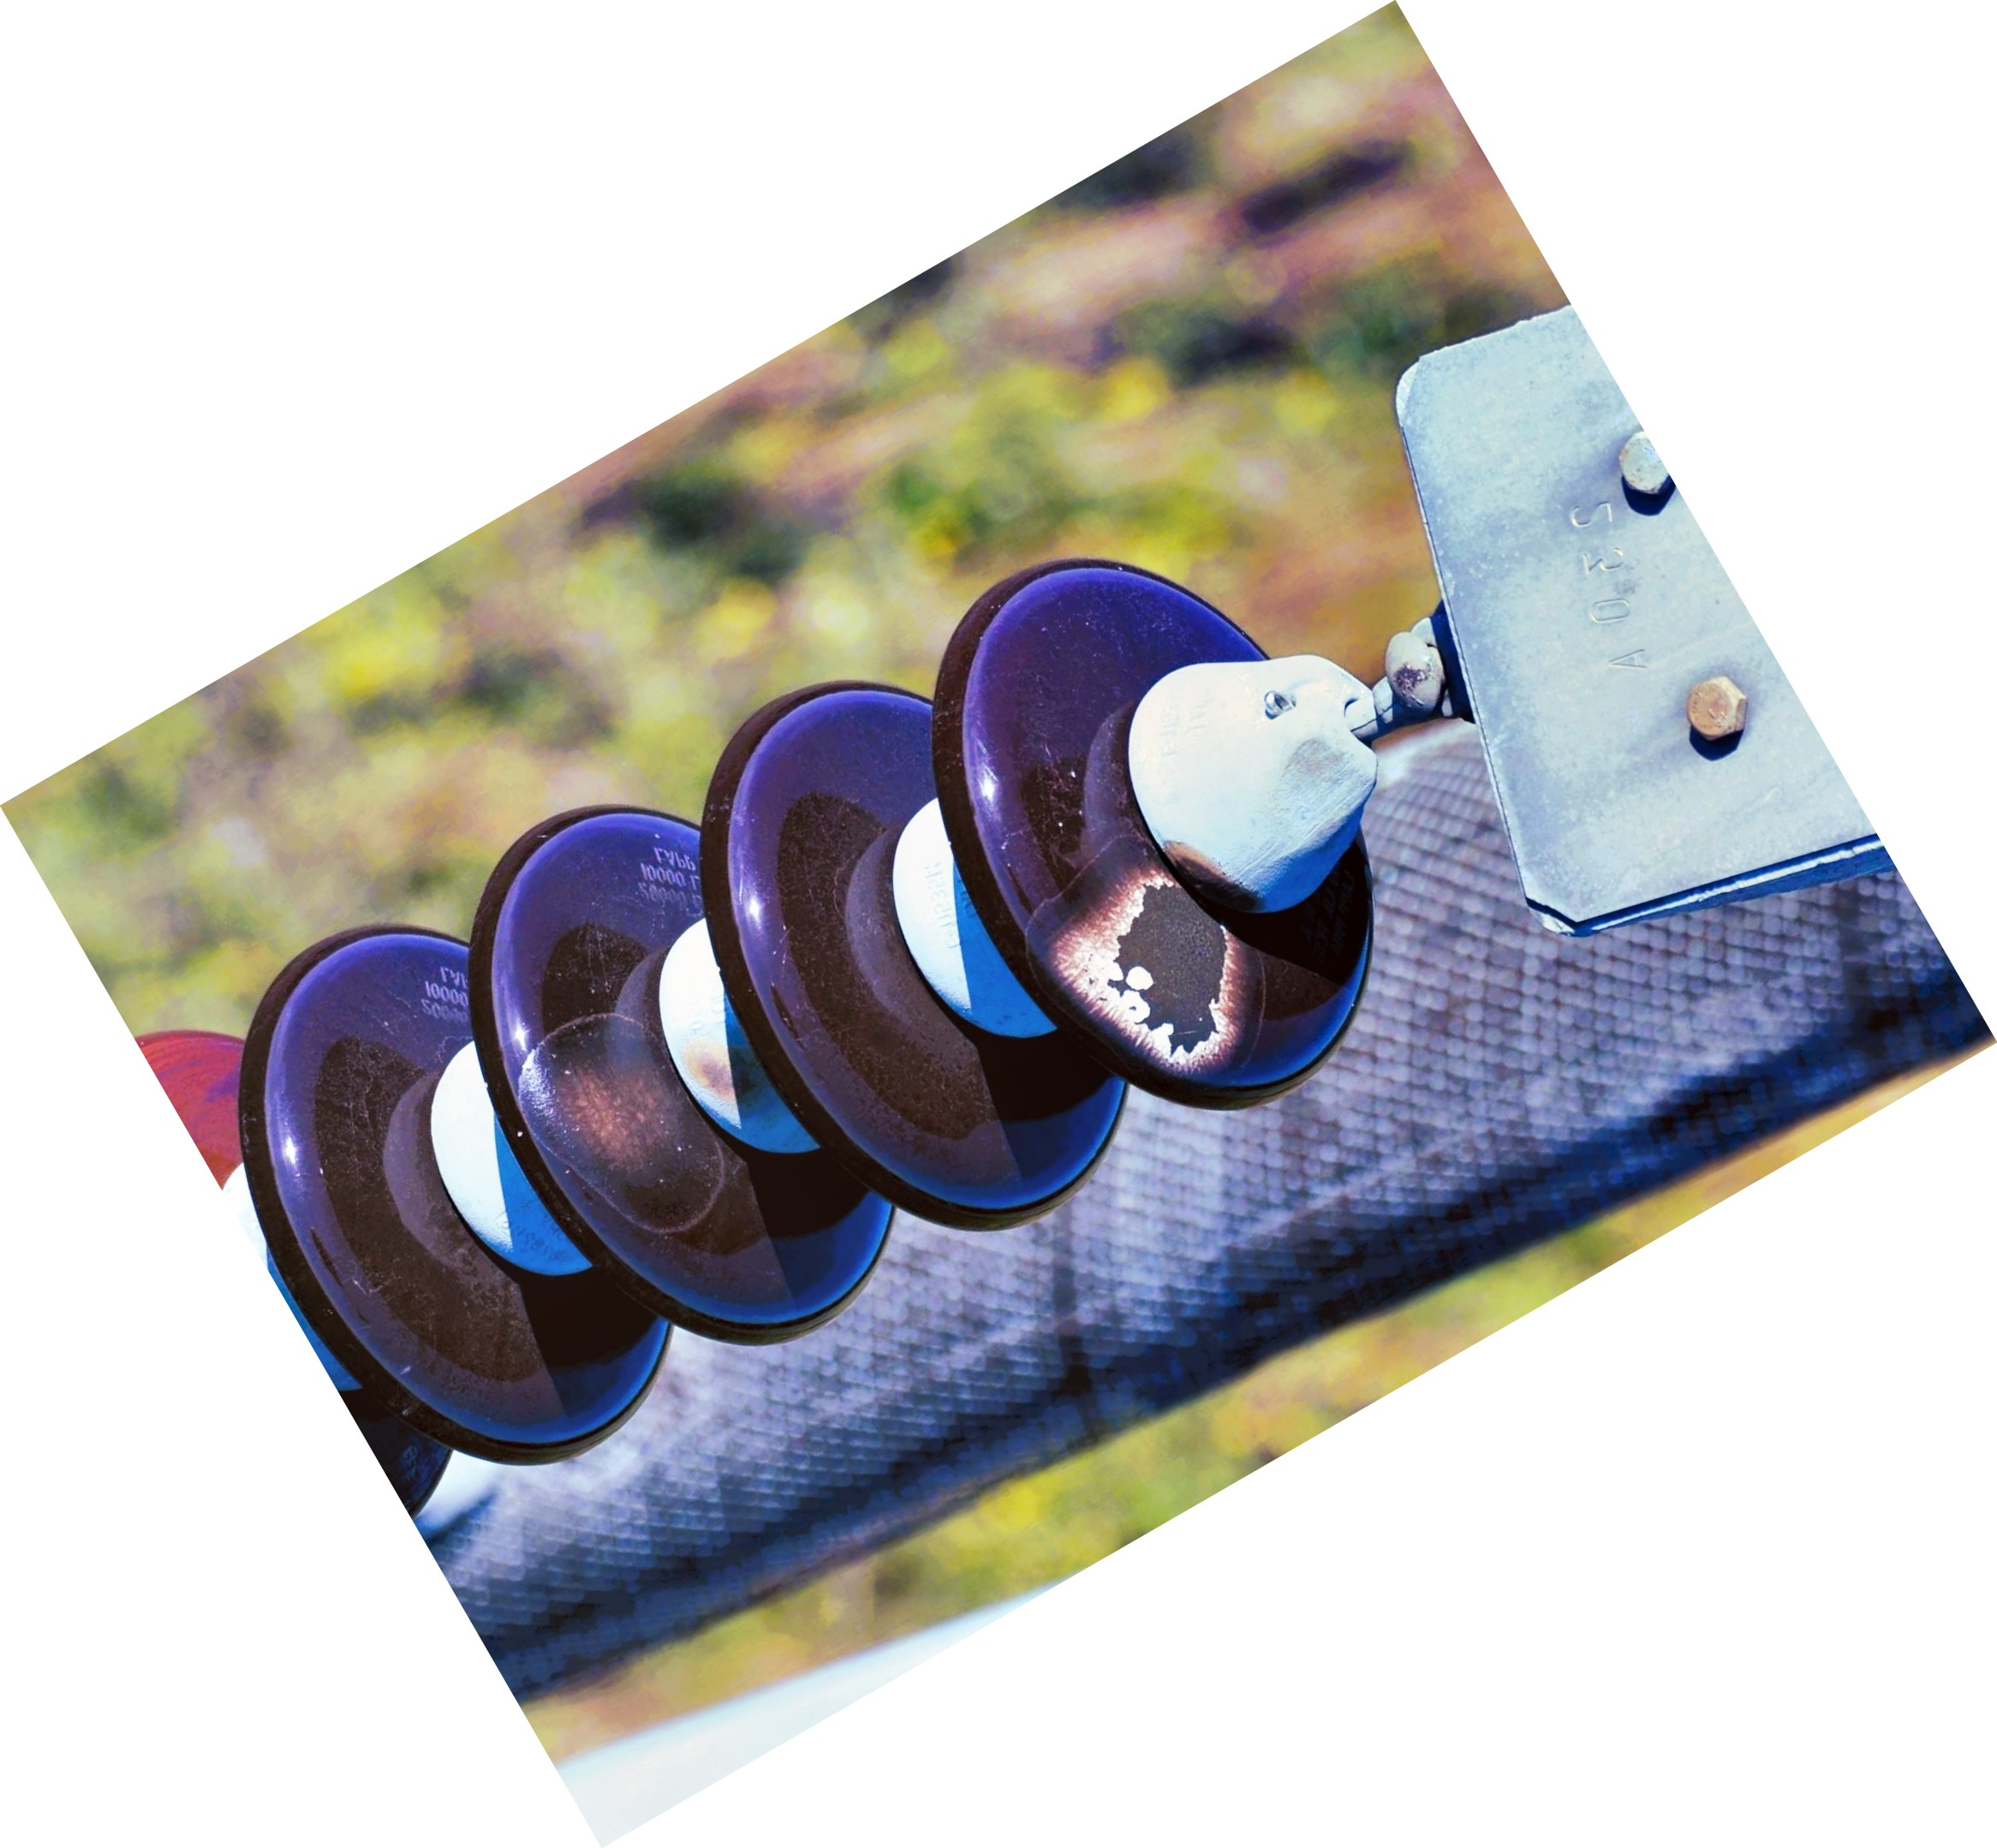Insulator flashover: (912, 529, 1430, 1126)
